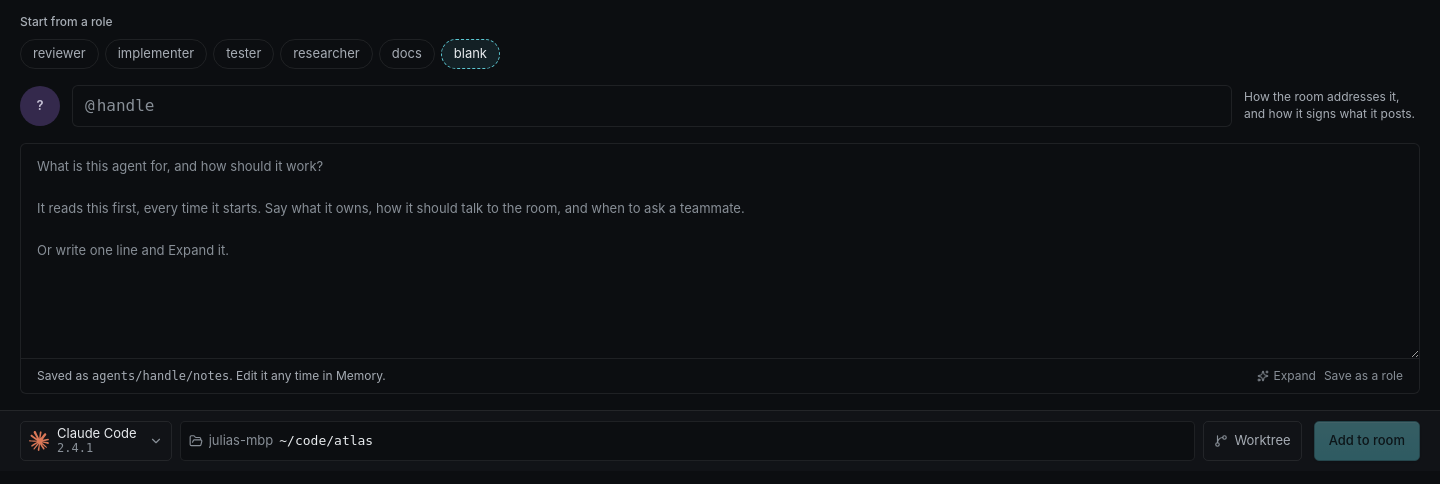
Test: LaunchAgentForm › keeps instructions you wrote as a role of your own
Replace the text in the text box named "Instructions" with "Triage issues." at (720, 251), box [21,144,1419,358]
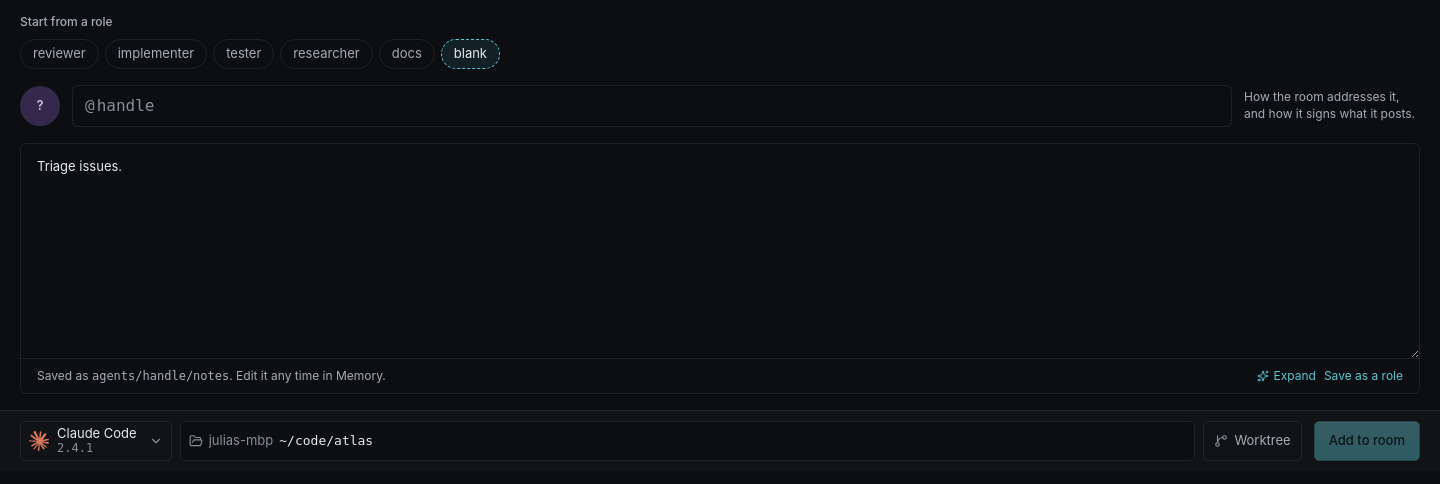
Click the button "Save as a role" at (1363, 376), box [1324,367,1403,385]
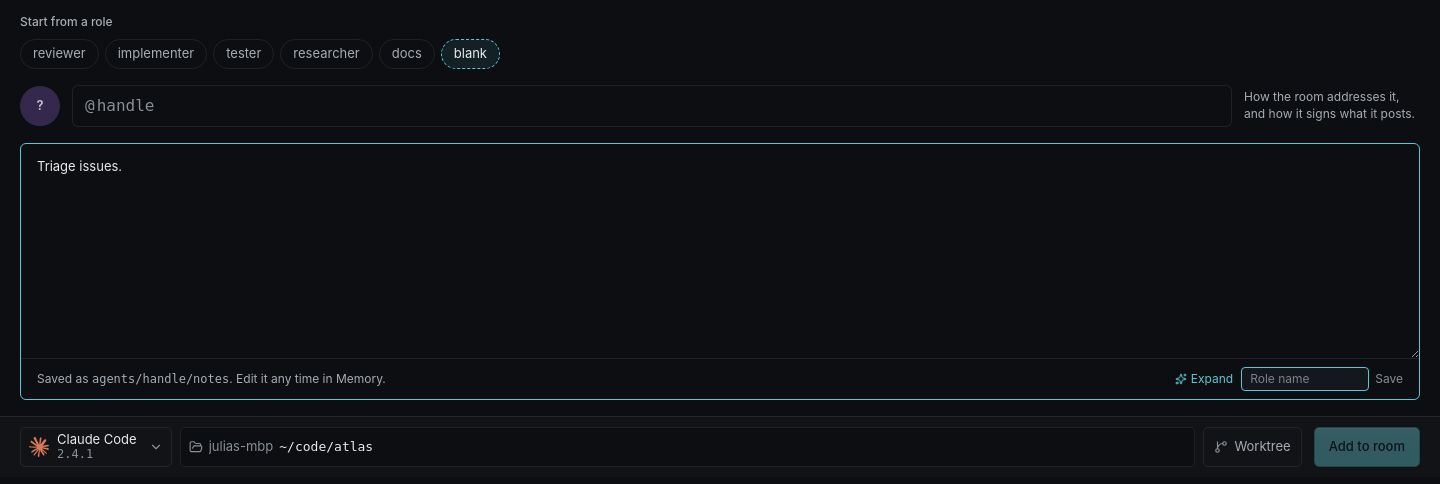
Type "triager" into the field labelled "Role name" at (1305, 379), box [1241,367,1369,391]
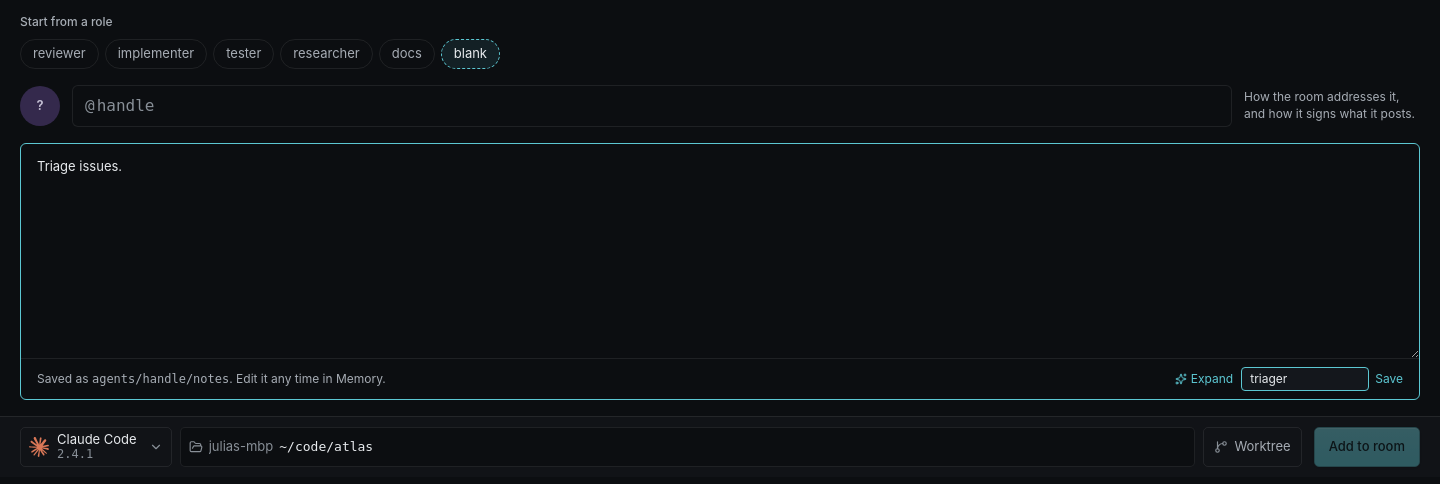
Submit the form named "Role name", box [1241,367,1403,391]
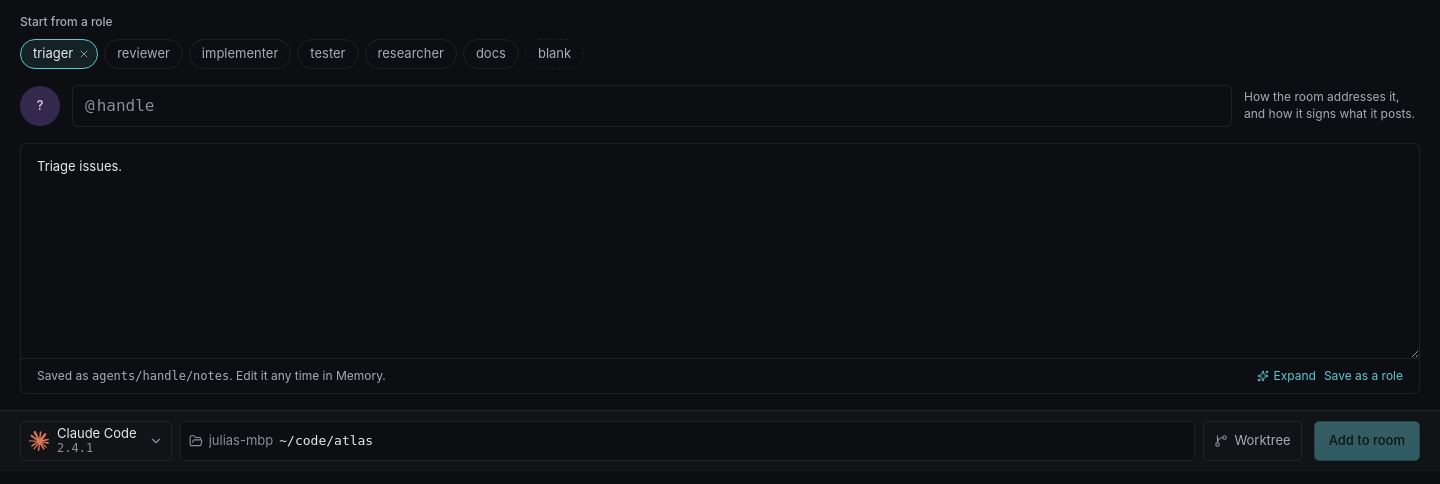
Click the button named "Delete triager" at (84, 54), box [76,46,92,62]
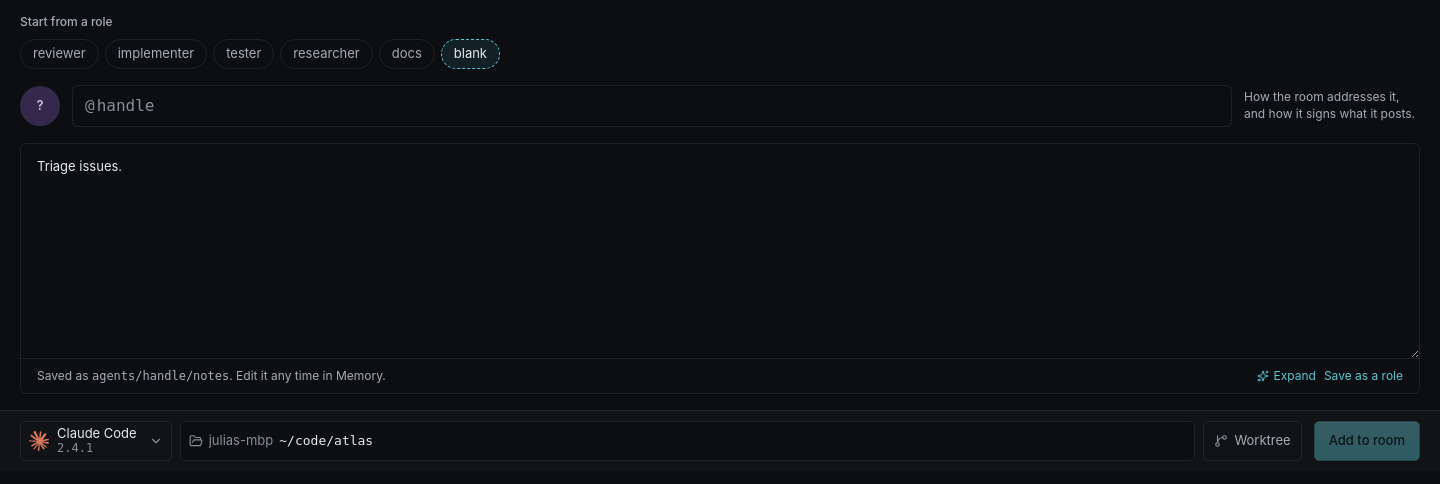
Now the radio button labelled "triager" is gone
